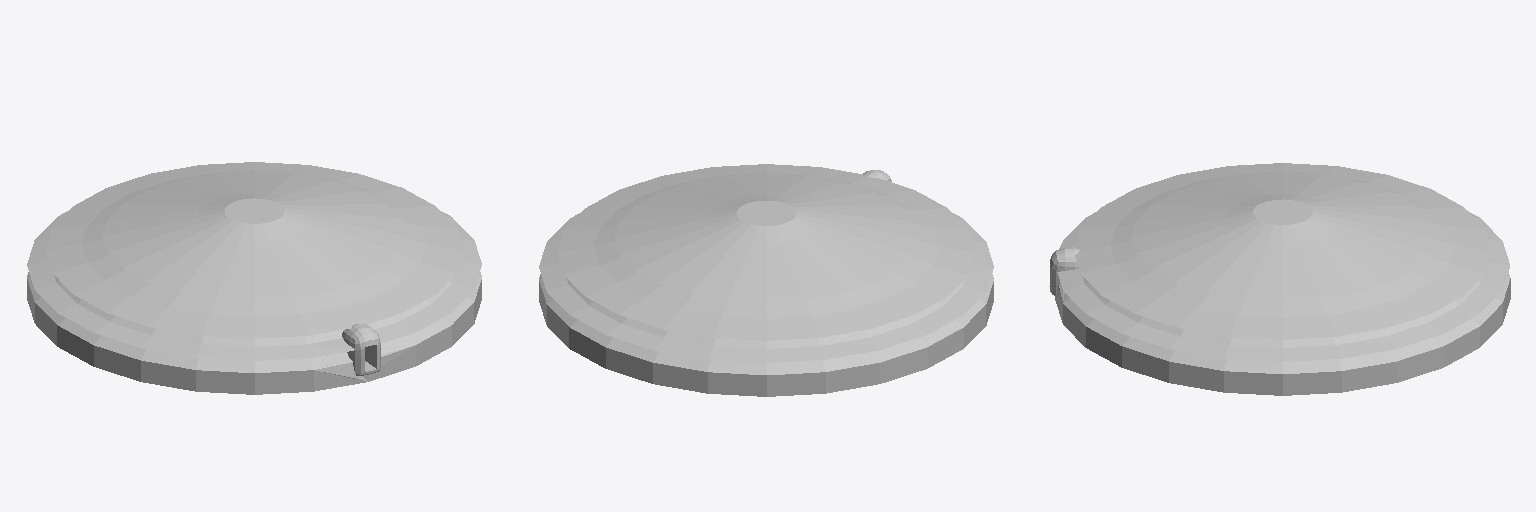
File: CloneFactory_BaseV3.obj
The picture shows the model from 3 angles: view 1: azimuth 30°, elevation 25°; view 2: azimuth 150°, elevation 25°; view 3: azimuth 270°, elevation 25°; orthographic projection.
Visible parts, largest first — view 1: CloneFactory_BaseV3.obj; view 2: CloneFactory_BaseV3.obj; view 3: CloneFactory_BaseV3.obj.
Boxes of the visible parts, x1,y1,x2,y2 form: CloneFactory_BaseV3.obj: [27, 162, 481, 394]; CloneFactory_BaseV3.obj: [539, 164, 993, 396]; CloneFactory_BaseV3.obj: [1049, 163, 1510, 395].
Size of the model in its own units: 1000 by 212 by 1012.